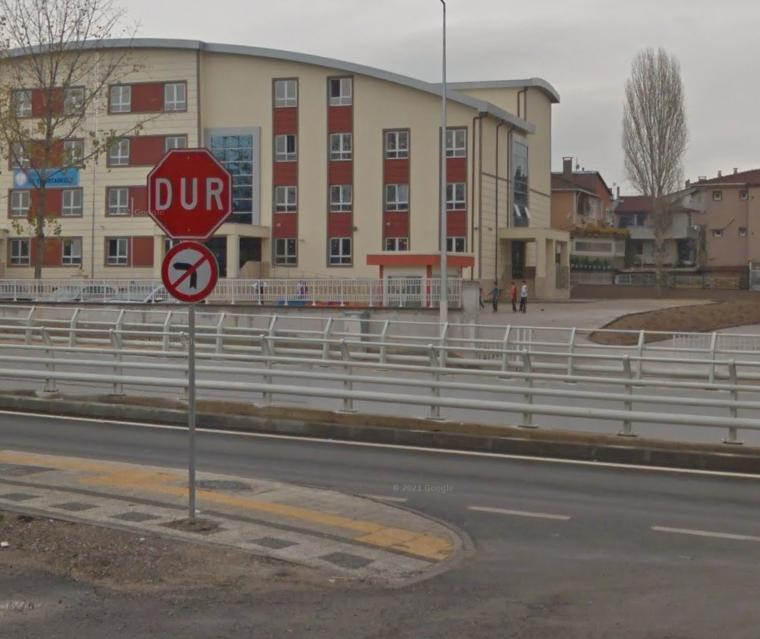leftturnsareforbidden: (153, 241, 230, 310)
stop: (144, 143, 239, 241)
